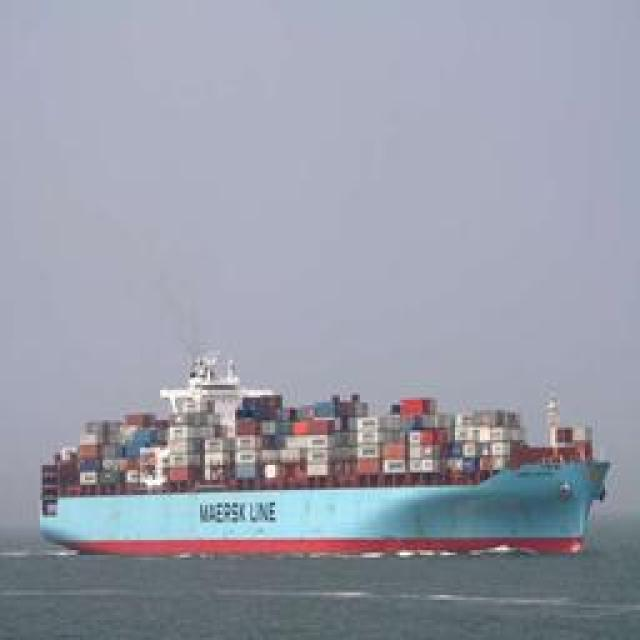CIV_Ship: (39, 350, 612, 558)
